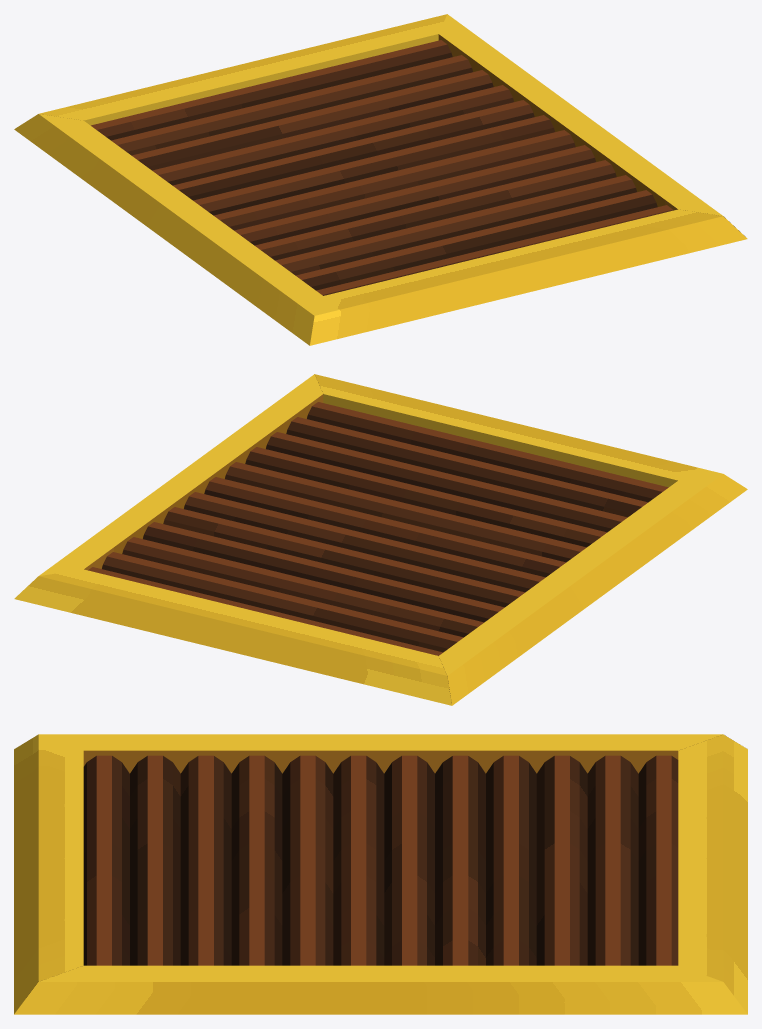
The model's file is Booster v2.glb.
3 views of the same model, one above another, from view 1: azimuth 30°, elevation 25°; view 2: azimuth 150°, elevation 25°; view 3: azimuth 270°, elevation 25° (orthographic). The views are drawn at different scales.
Parts seen in each view (by area): view 1: Placa; view 2: Placa; view 3: Placa.
Part boxes in pixels (x1,y1,x2,y2): Placa: (14, 14, 747, 345); Placa: (14, 374, 747, 705); Placa: (14, 734, 747, 1014).
Bounding box in the file's own units: 1.7 × 0.0731 × 1.99.
1 material, 1 textured.
